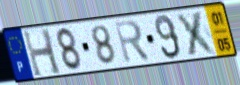8: (55, 26, 82, 72), (90, 24, 117, 66)
9: (154, 13, 182, 61)
H: (21, 27, 64, 79)
R: (113, 18, 153, 66)
X: (174, 9, 219, 58)
